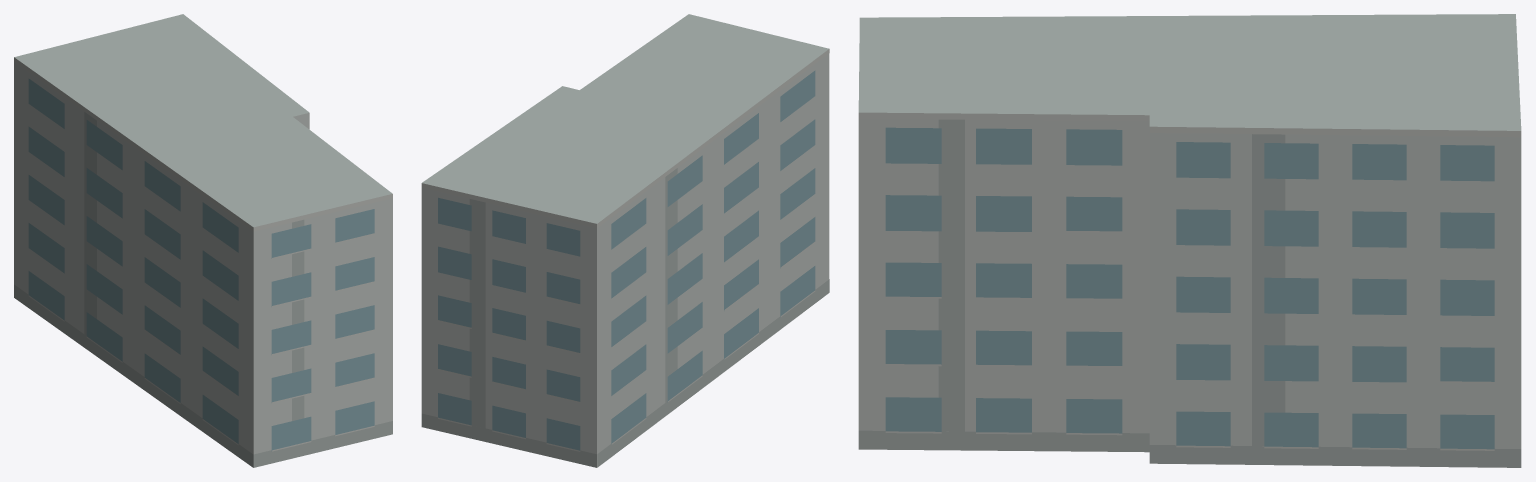
File: survey-upis-32805351.glb
3 renders of one model, left to right at view 1: azimuth 30°, elevation 25°; view 2: azimuth 150°, elevation 25°; view 3: azimuth 270°, elevation 25°, orthographic. The views are drawn at different scales.
Parts seen in each view (by area): view 1: survey-upis-32805351.tmp; view 2: survey-upis-32805351.tmp; view 3: survey-upis-32805351.tmp.
Boxes of the visible parts, <box> form: survey-upis-32805351.tmp: <box>14,14,392,467</box>; survey-upis-32805351.tmp: <box>421,14,829,467</box>; survey-upis-32805351.tmp: <box>858,14,1521,467</box>.
Bounding box in the file's own units: 9.76 × 13.1 × 23.37.
